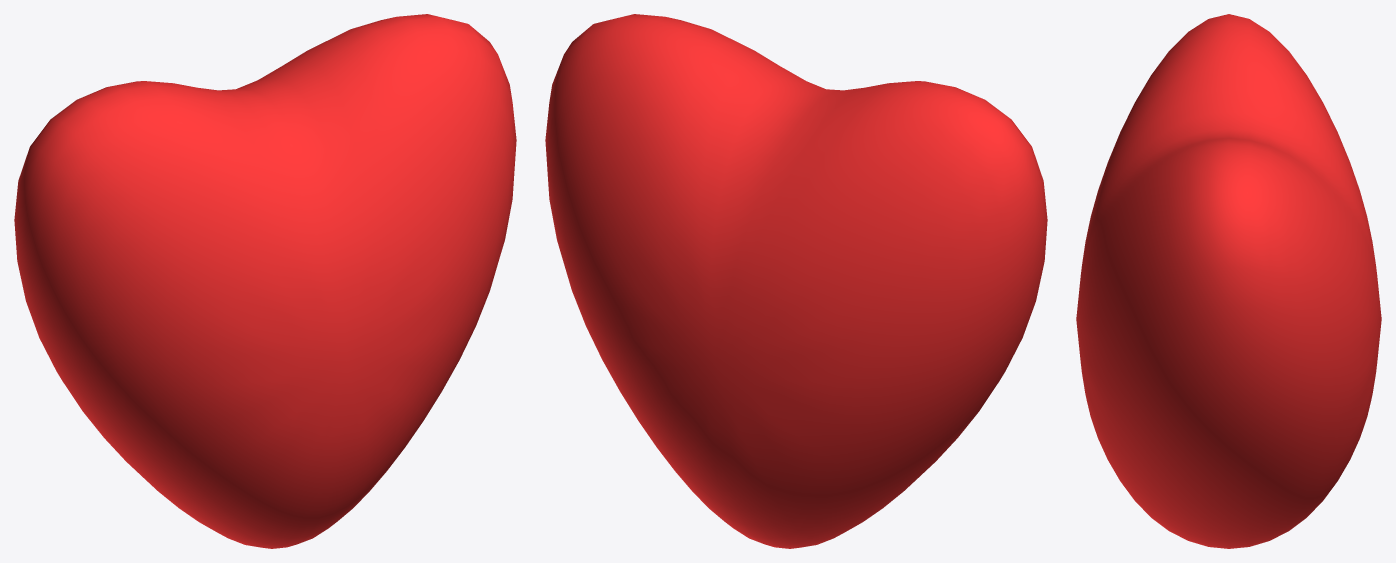
File: heart.fbx
3 renders of one model, left to right at view 1: azimuth 30°, elevation 25°; view 2: azimuth 150°, elevation 25°; view 3: azimuth 270°, elevation 25°, orthographic. The views are drawn at different scales.
Parts seen in each view (by area): view 1: Sphere001; view 2: Sphere001; view 3: Sphere001.
Boxes of the visible parts, x1,y1,x2,y2 form: Sphere001: (14,14,516,548); Sphere001: (545,14,1047,548); Sphere001: (1076,14,1381,548).
Bounding box in the file's own units: 91.44 × 88.31 × 53.98.
